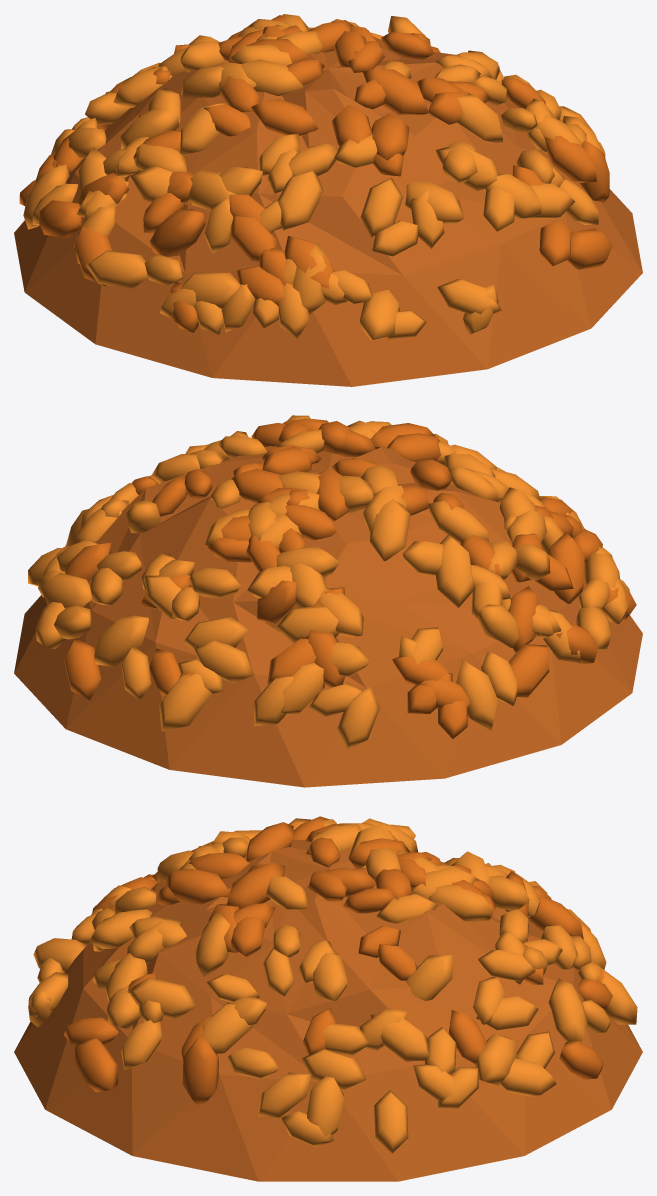
The model's file is TasGrainesOrange.obj.
3 renders of one model, top to bottom at view 1: azimuth 30°, elevation 25°; view 2: azimuth 150°, elevation 25°; view 3: azimuth 270°, elevation 25°, orthographic.
Visible parts, largest first — view 1: TasGrainesOrange; view 2: TasGrainesOrange; view 3: TasGrainesOrange.
Part boxes in pixels (x1,y1,x2,y2): TasGrainesOrange: (14,14,642,386); TasGrainesOrange: (14,415,642,787); TasGrainesOrange: (14,816,642,1181).
Bounding box in the file's own units: 0.9749 × 0.3502 × 1.
